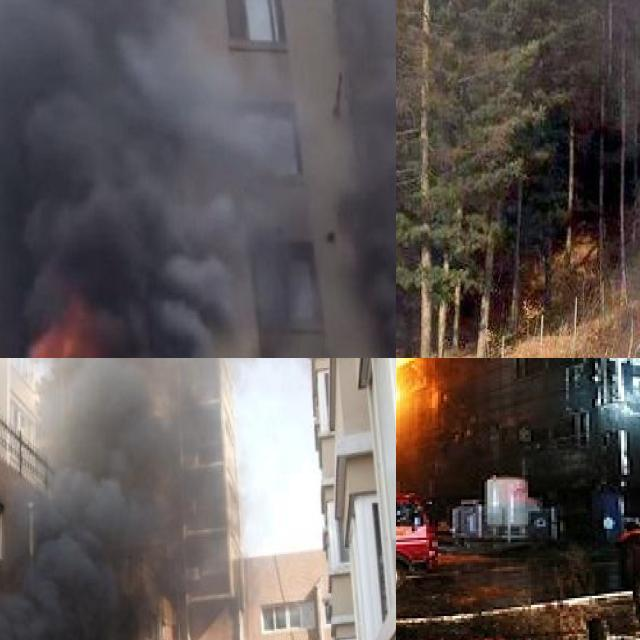fire: (13, 297, 102, 358)
smoke: (0, 0, 281, 358), (0, 358, 298, 640), (340, 0, 396, 358)
